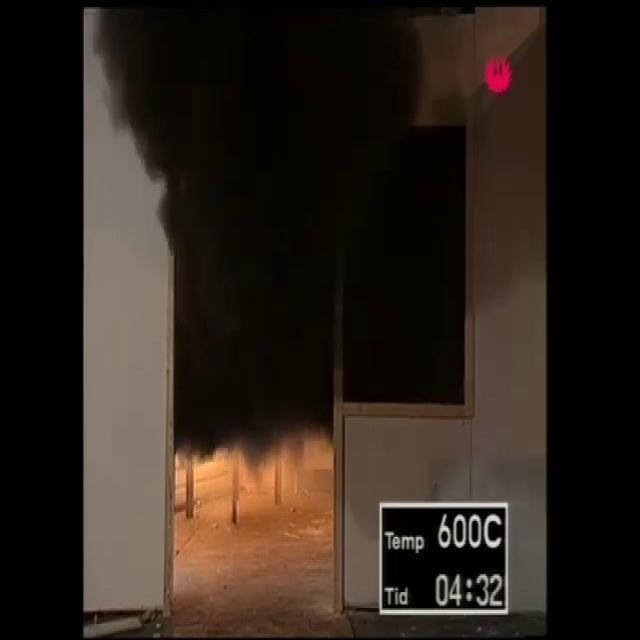Fire: (485, 55, 511, 96)
Smoke: (76, 5, 335, 617)
